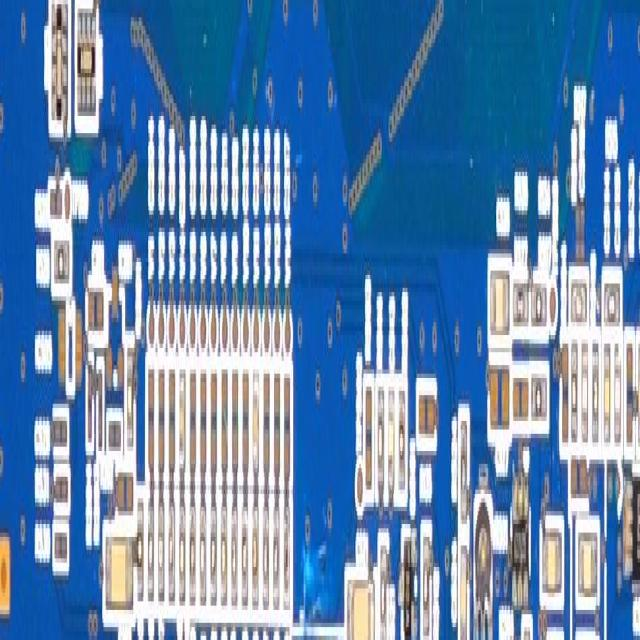capacitor: (105, 537, 133, 610), (348, 575, 375, 640), (578, 532, 598, 602), (542, 532, 562, 600), (489, 365, 510, 427), (490, 270, 509, 334), (604, 335, 611, 449), (459, 545, 467, 640), (190, 365, 197, 473), (168, 365, 175, 472), (581, 339, 588, 442), (200, 370, 207, 472), (117, 472, 133, 515), (180, 365, 186, 478), (88, 292, 105, 331), (232, 365, 238, 473), (253, 369, 259, 475), (284, 374, 290, 480), (242, 374, 248, 479), (388, 387, 394, 492), (263, 374, 269, 477), (222, 370, 228, 472), (148, 369, 154, 471), (274, 374, 280, 474), (211, 374, 217, 472), (615, 344, 621, 441), (158, 369, 164, 463), (638, 344, 640, 446), (524, 627, 530, 640)
resistor: (377, 387, 385, 496), (626, 344, 634, 447), (460, 421, 468, 522), (531, 369, 547, 419), (283, 498, 290, 610), (273, 498, 280, 606), (532, 284, 548, 330), (398, 391, 405, 496), (513, 279, 529, 324), (53, 241, 70, 283), (263, 502, 270, 604), (604, 284, 620, 328), (592, 340, 599, 440), (423, 537, 430, 637), (189, 503, 196, 600), (571, 456, 587, 498), (513, 378, 528, 422), (242, 502, 248, 612), (179, 507, 186, 601), (138, 498, 144, 606), (571, 284, 587, 324), (200, 503, 206, 609), (231, 502, 237, 607), (221, 502, 227, 606), (562, 344, 568, 446), (127, 352, 133, 453), (571, 344, 577, 444), (148, 502, 154, 602), (158, 502, 164, 600), (210, 503, 216, 601), (252, 507, 258, 604), (380, 545, 386, 640), (98, 370, 103, 452), (50, 185, 62, 219), (55, 528, 67, 562), (56, 472, 68, 503), (109, 421, 121, 449), (88, 361, 92, 444)
